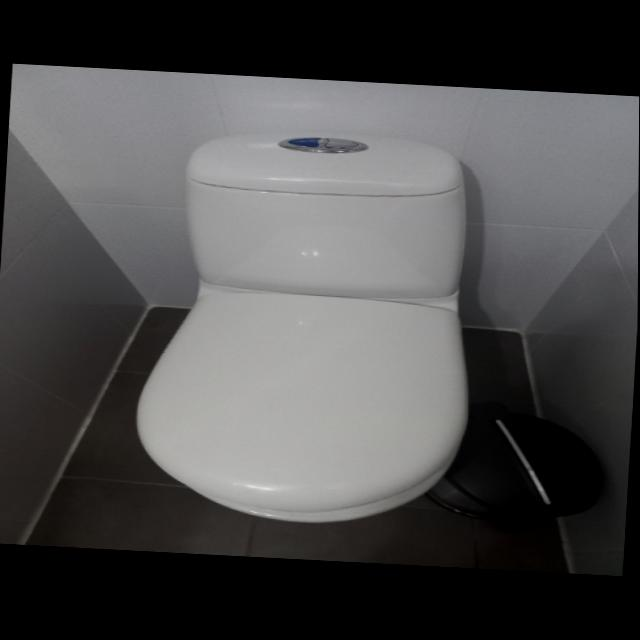toilet: (131, 122, 487, 530)
